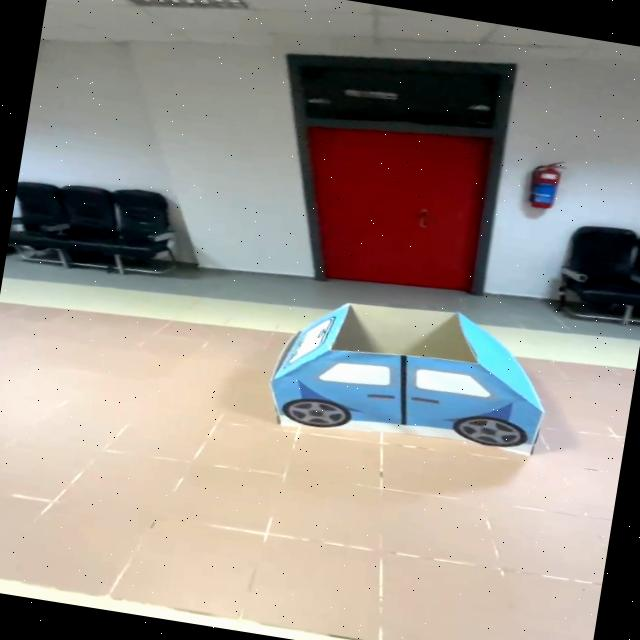blue_car: (238, 275, 583, 486)
